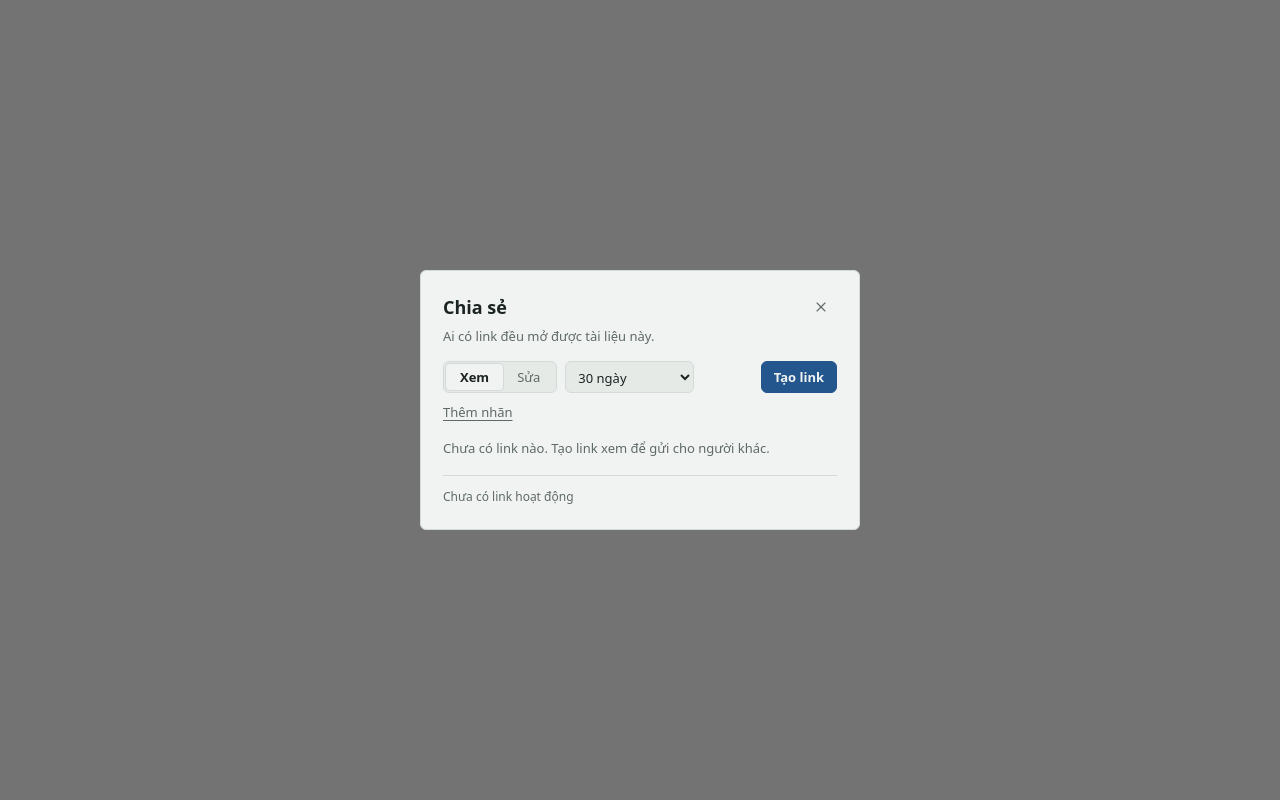
ShareModal › 8e2 link management › creates an edit link with 7d and trimmed label
Click the radio button labelled "Sửa" at (529, 377), box x1=503 y1=364 x2=554 y2=390
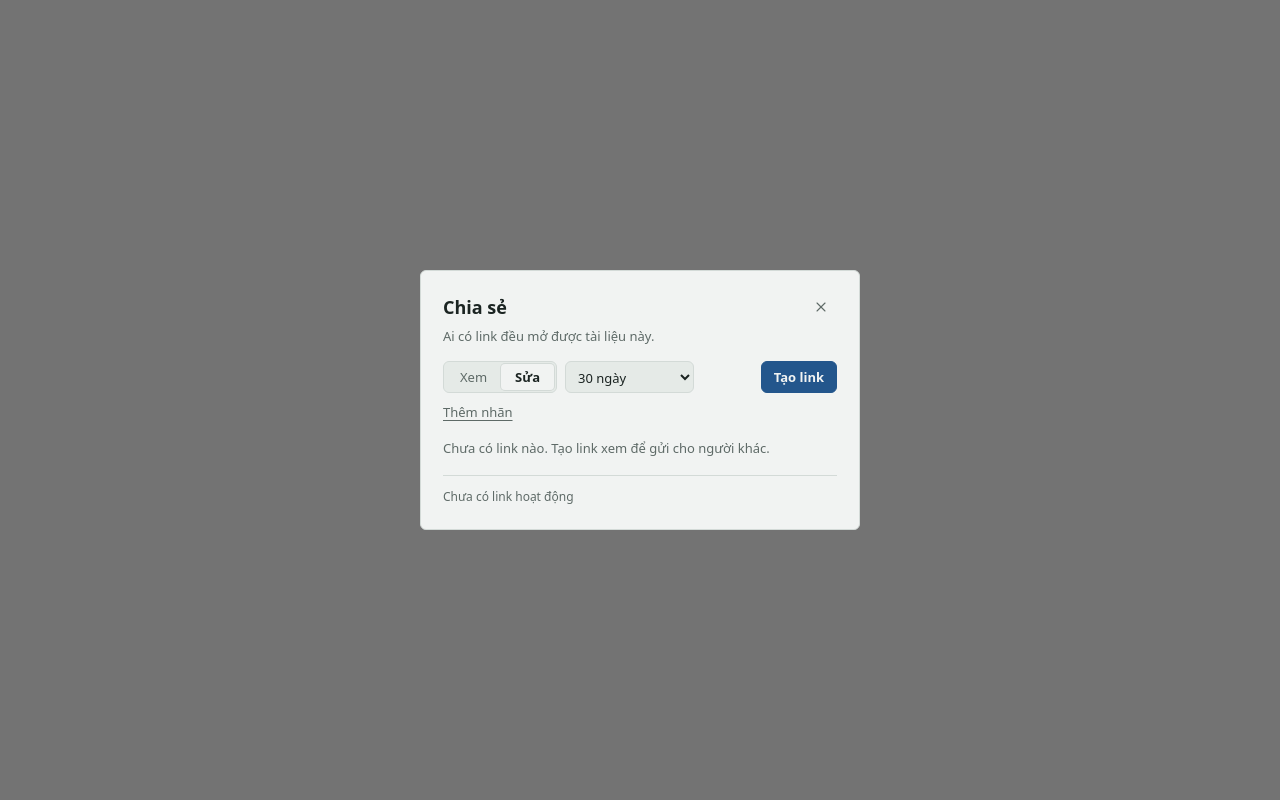
Select "7 ngày" in the dropdown named "Hết hạn" at (630, 377), box x1=565 y1=361 x2=694 y2=393
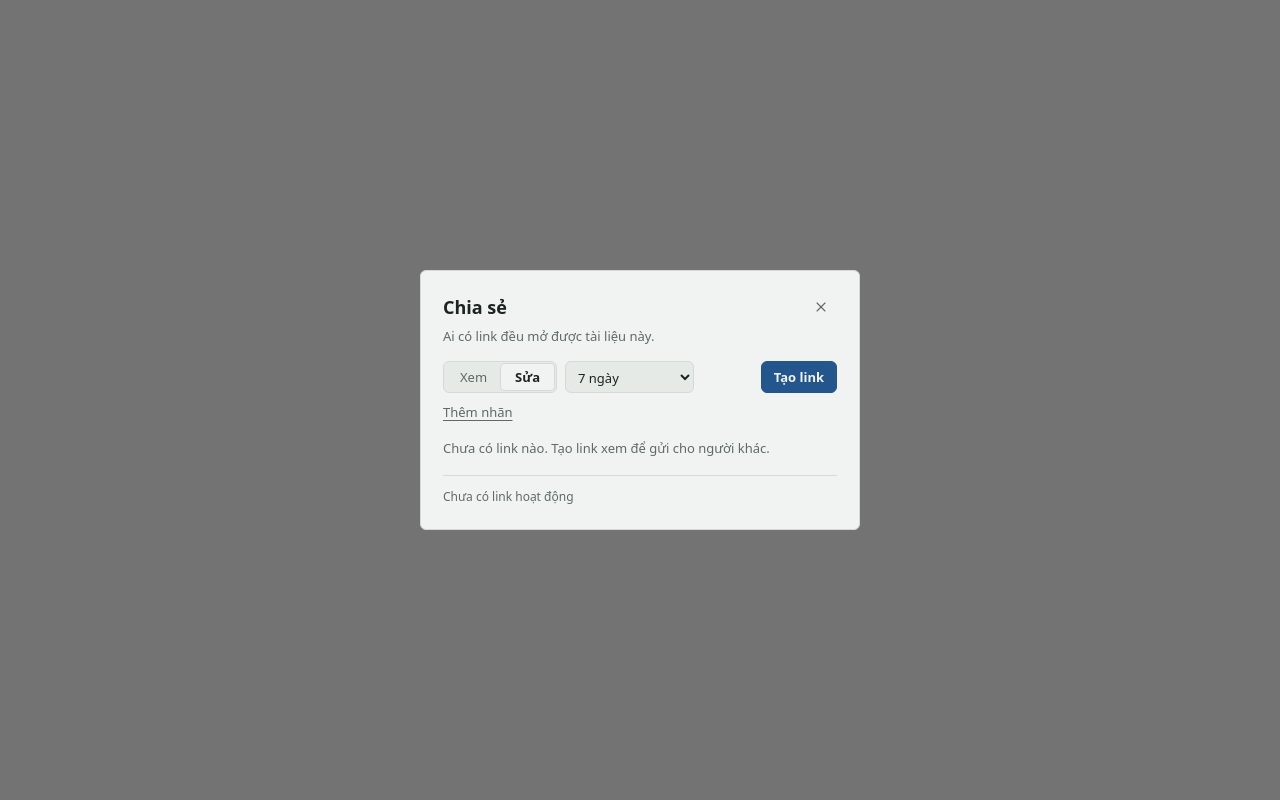
Click the button "Thêm nhãn" at (478, 412), box x1=443 y1=399 x2=512 y2=425
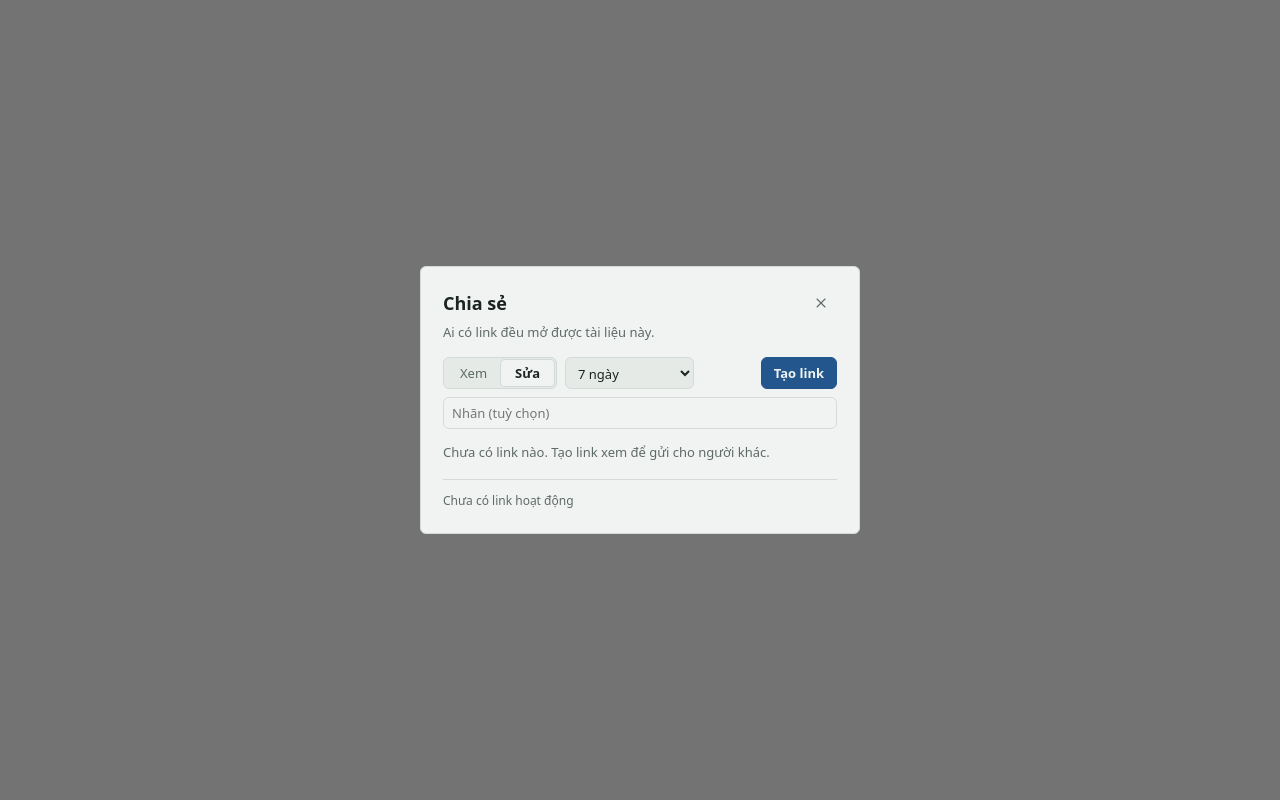
Type "  Nhóm A " into the field labelled "Nhãn (tuỳ chọn)" at (640, 413), box x1=443 y1=397 x2=837 y2=429
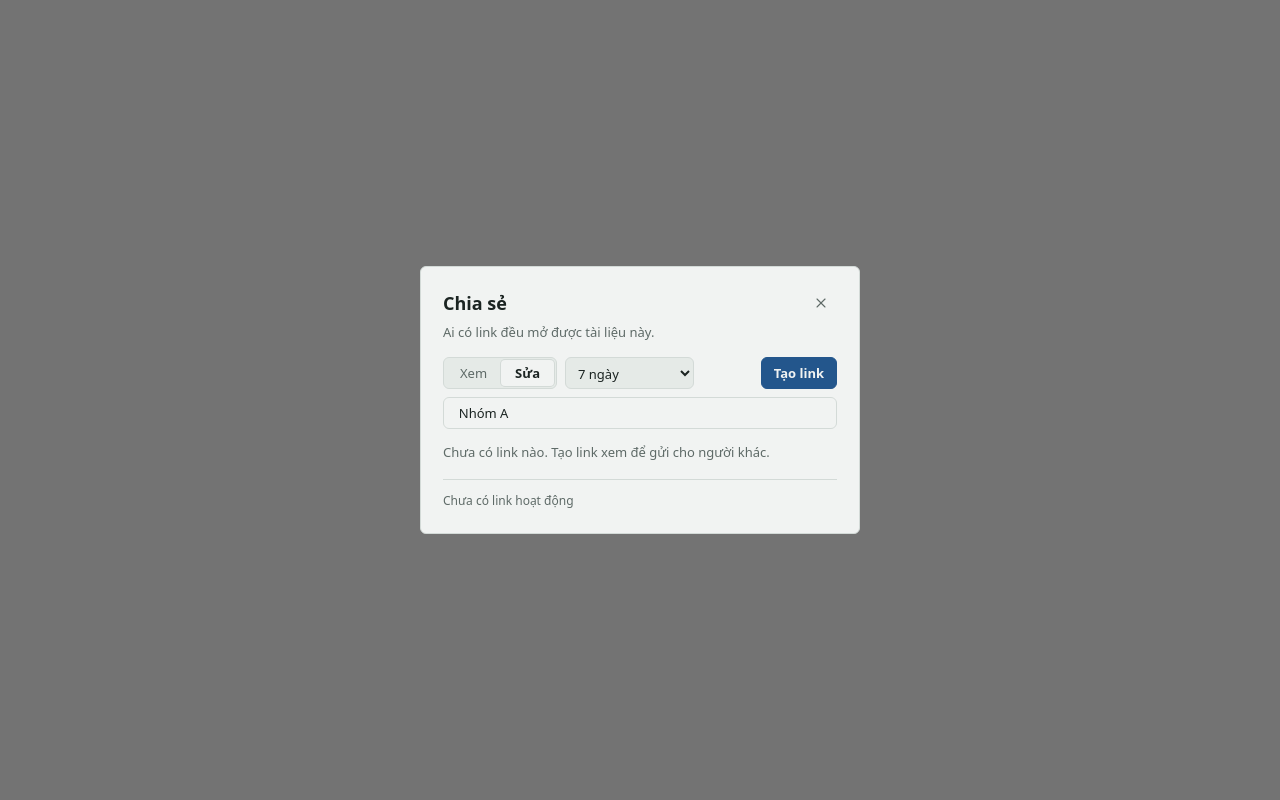
Click the button "Tạo link" at (799, 373), box x1=761 y1=357 x2=837 y2=389
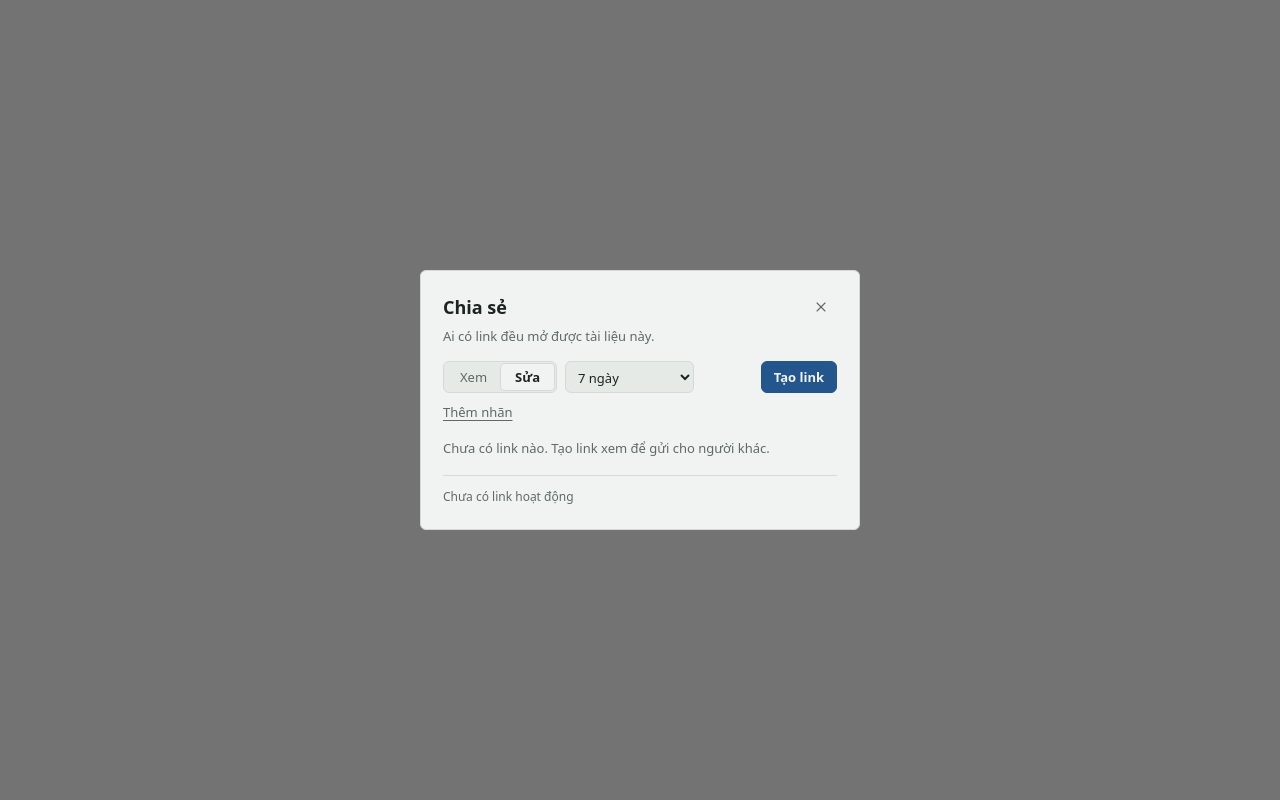
Check: the field labelled "Nhãn (tuỳ chọn)" is not shown
Check: the button "Thêm nhãn" is shown, box x1=443 y1=399 x2=512 y2=425
